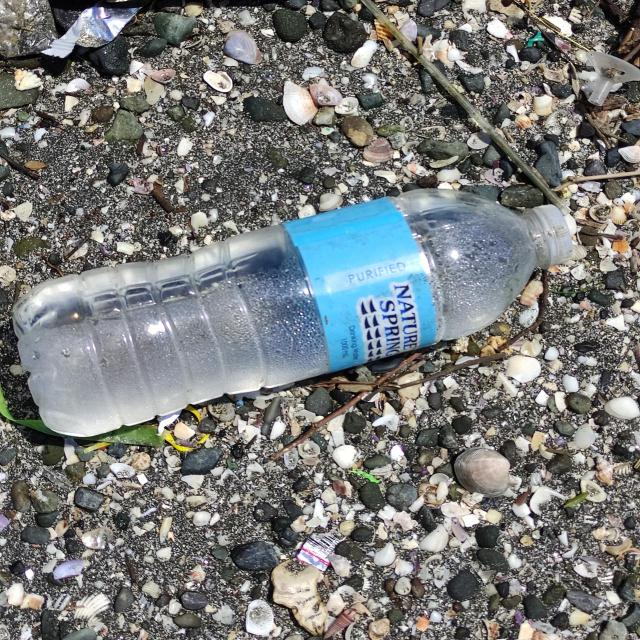plastic_waste: (10, 188, 577, 440)
